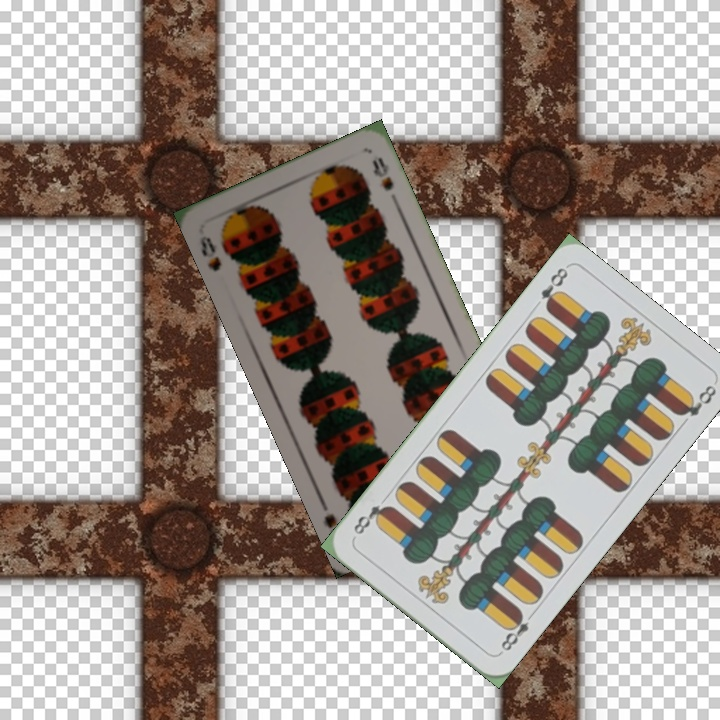E8: (495, 606, 538, 657), (536, 263, 571, 313)
S8: (196, 231, 224, 274)
